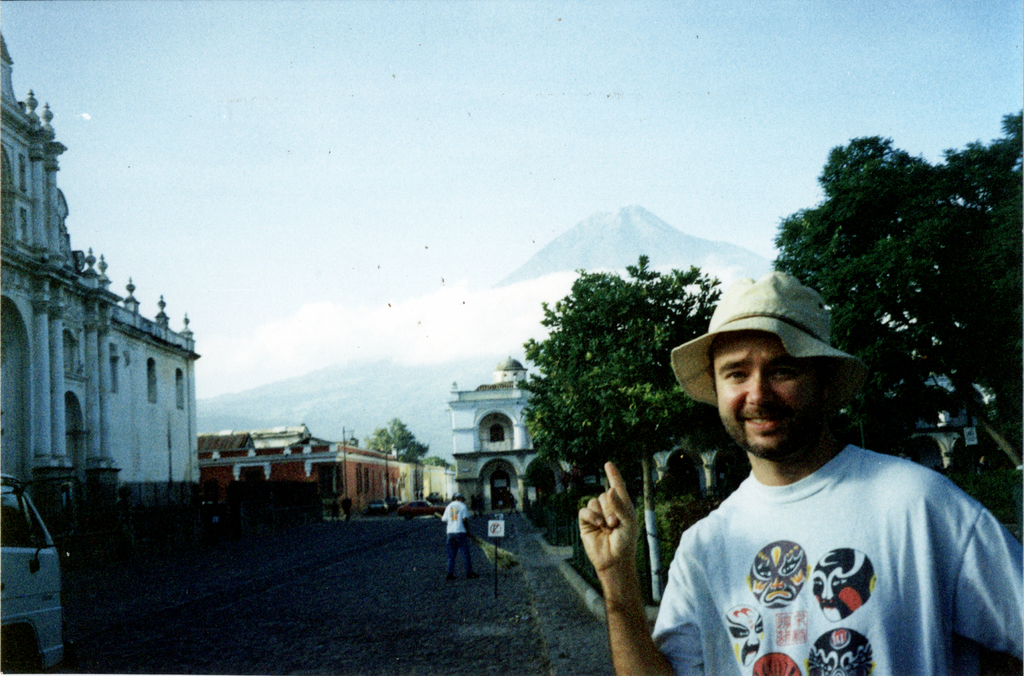Human_hand: (575, 460, 670, 629)
